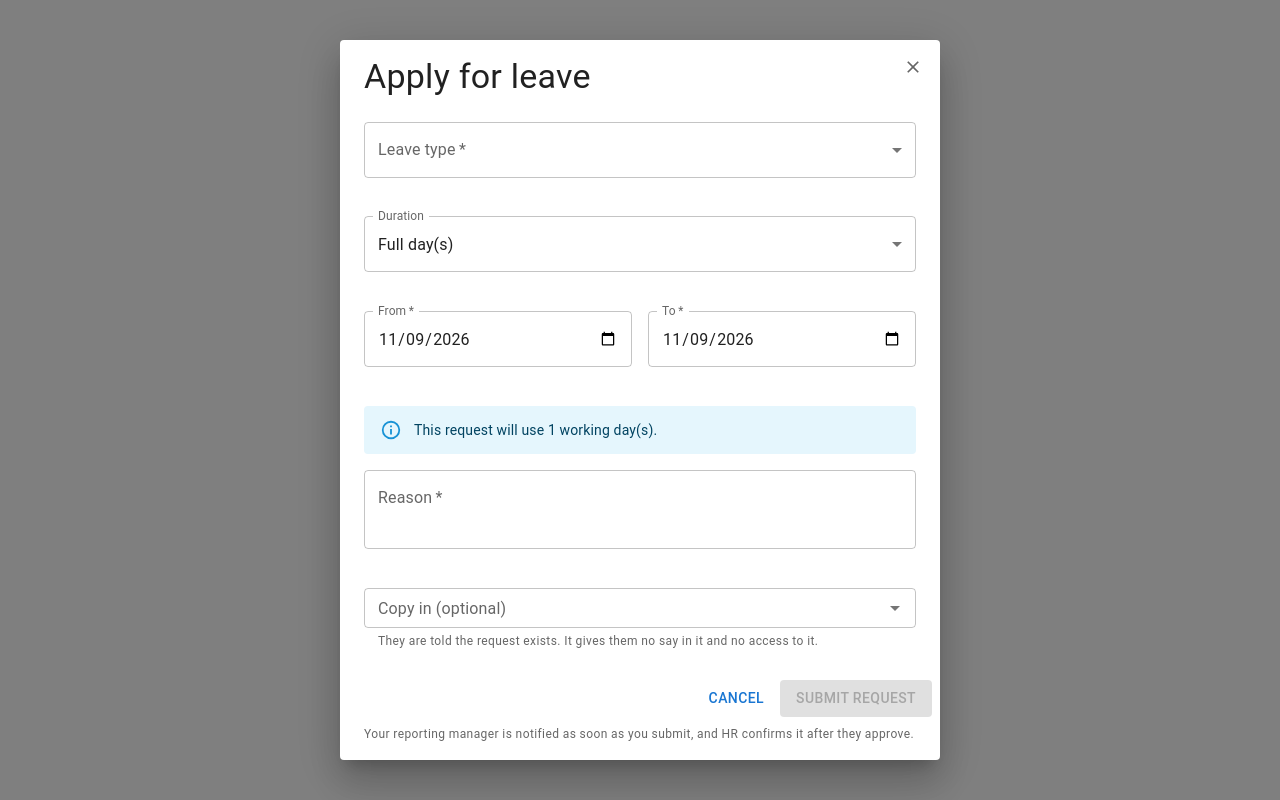
it: ApplyLeaveDialog leave types › offers capped Loss of Pay with the days left, marked unpaid
Click the dropdown named "leave type".
click(640, 150)  # box 364,122 -> 916,178
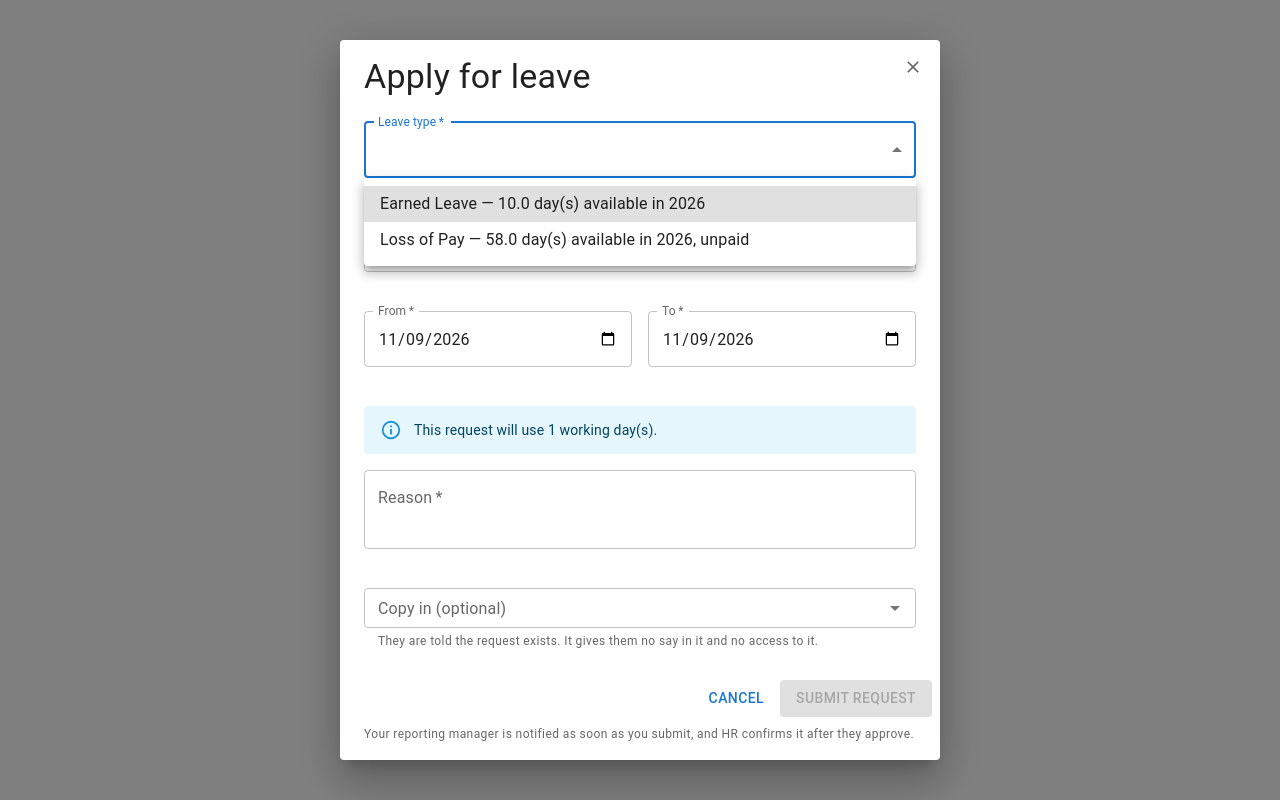
Now the option "Loss of Pay — 58.0 day(s) available in 2026, unpaid" is shown, box 380,230 -> 750,249
